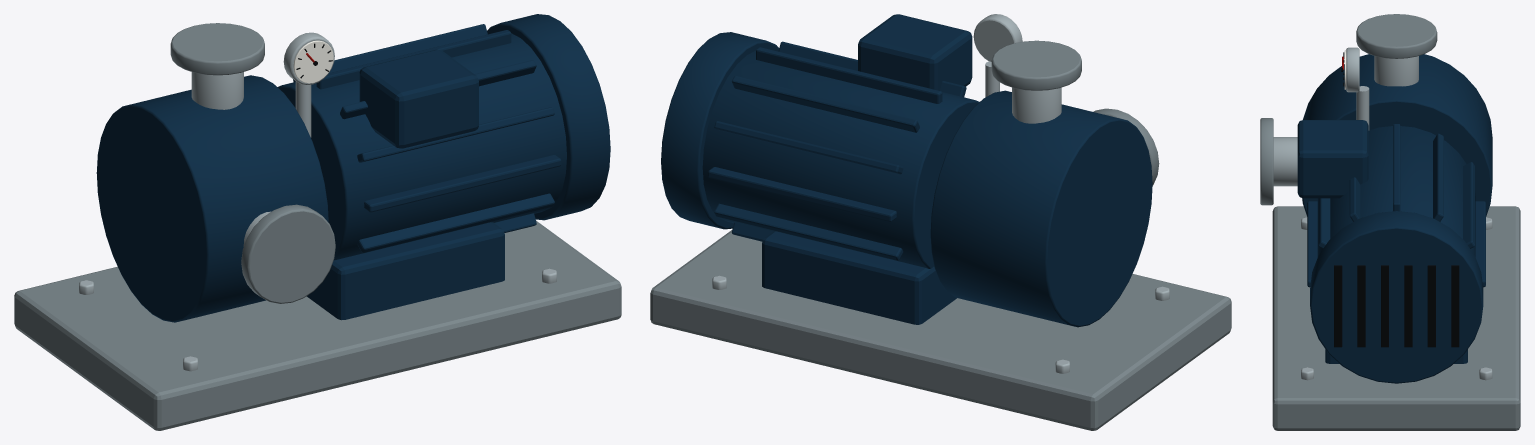
Rendered from OAA_WaterPump_Rooftop.fbx.
The picture shows the model from 3 angles, left to right: view 1: azimuth 30°, elevation 25°; view 2: azimuth 150°, elevation 25°; view 3: azimuth 270°, elevation 25°; orthographic projection. The views are drawn at different scales.
Parts seen in each view (by area): view 1: Body; view 2: Body; view 3: Body.
Part boxes in pixels (<box>): Body: <box>14,14,621,430</box>; Body: <box>650,14,1231,430</box>; Body: <box>1260,14,1520,430</box>.
Size of the model in its own units: 0.574 by 0.362 by 0.315.
